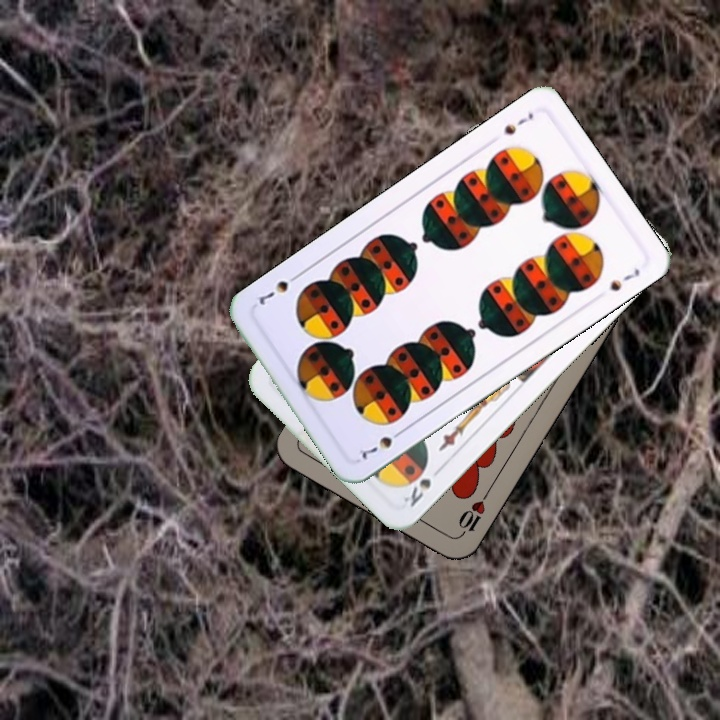H10: (452, 488, 491, 541)
S7: (355, 425, 407, 461), (499, 108, 536, 138)
SK: (399, 474, 434, 510)
